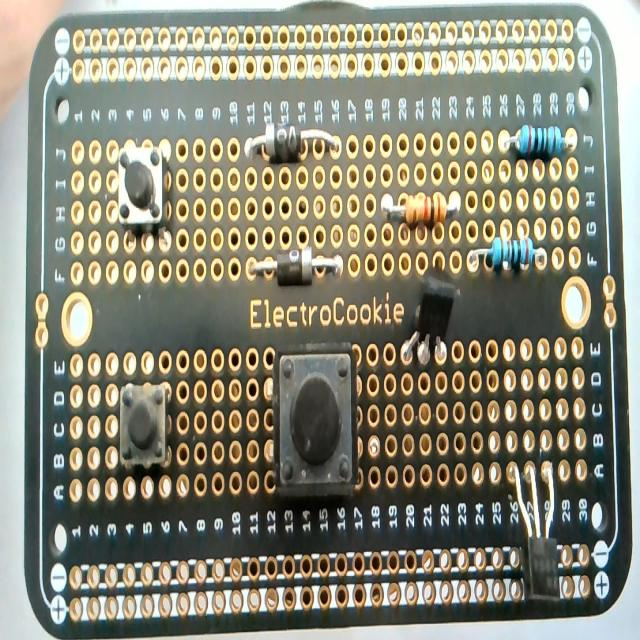diode: (243, 121, 339, 162), (250, 248, 344, 284)
resistor: (468, 236, 545, 274), (380, 191, 458, 228), (503, 123, 573, 158)
switch: (273, 346, 359, 494), (118, 146, 166, 233), (120, 382, 168, 468)
transistor: (506, 454, 570, 606), (404, 260, 460, 376)
